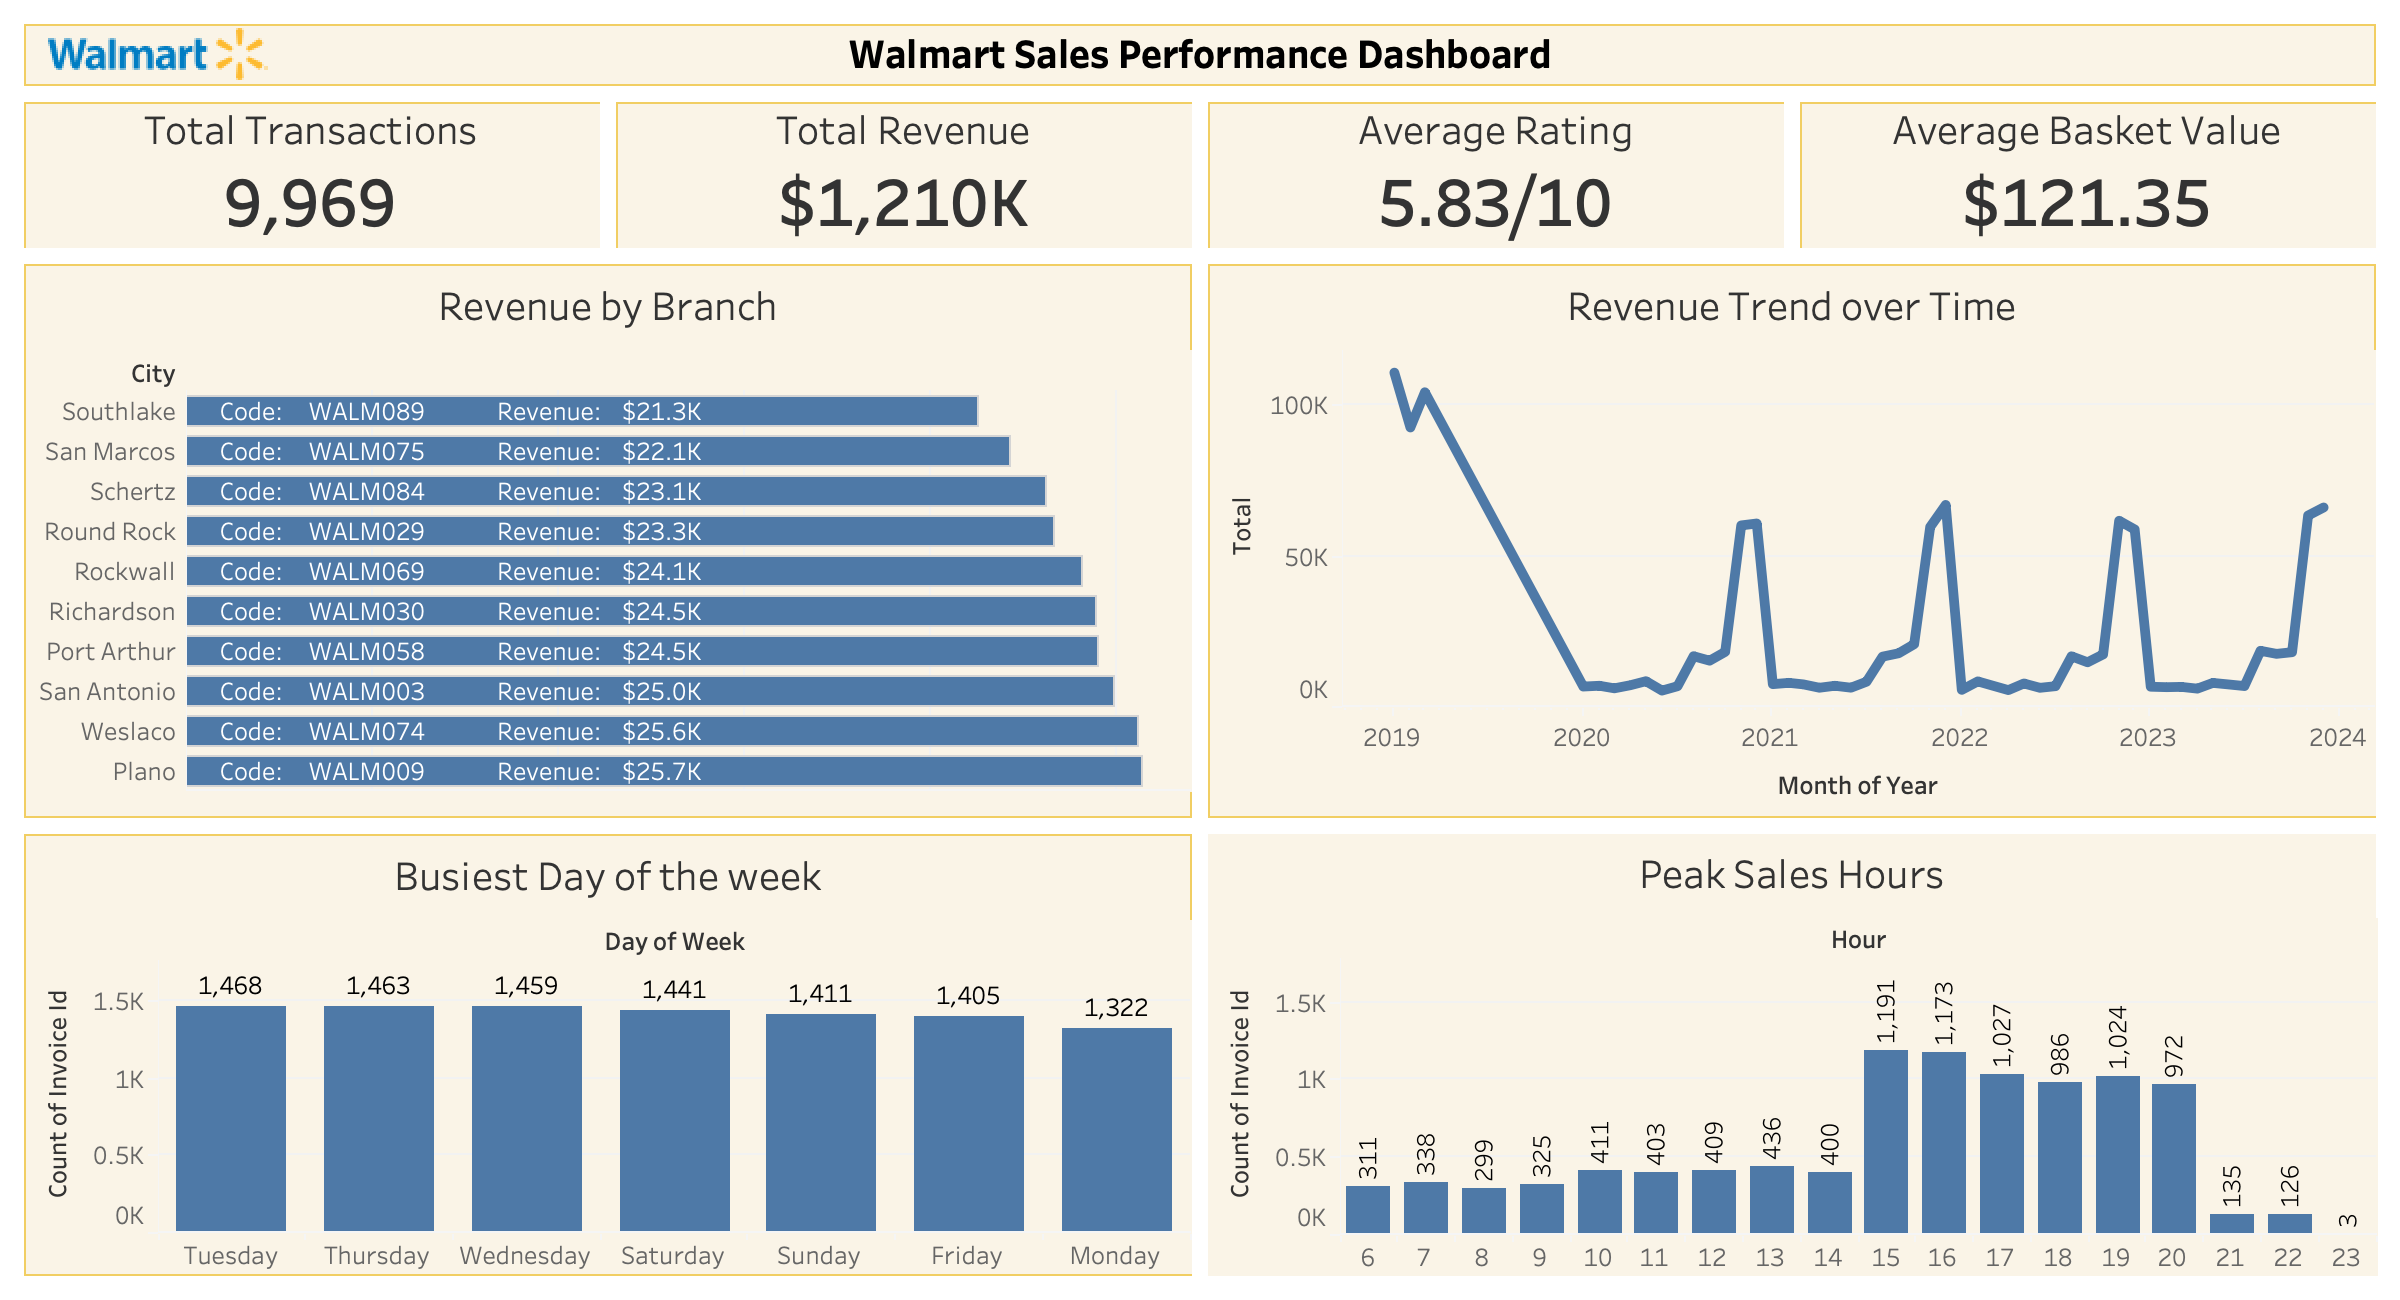

The page's visual inventory and layout, read from the dashboard file:
{"tool":"tableau","page":{"name":"Walmart Sales Performance Dashboard","canvas":[1200,650],"ordinal":0},"visuals":[{"type":"text","box":[8,8,1184,39]},{"type":"worksheet","title":"KPI-Total Transactions","mark":"Automatic","box":[8,47,296,81]},{"type":"worksheet","title":"KPI-Total Revenue","mark":"Automatic","box":[304,47,296,81]},{"type":"worksheet","title":"KPI-Average Rating","mark":"Automatic","box":[600,47,296,81]},{"type":"worksheet","title":"KPI-Average Basket Value","mark":"Automatic","box":[896,47,296,81]},{"type":"worksheet","title":"Revenue by Branch","mark":"Automatic","rows":["city"],"cols":["total"],"box":[8,128,592,285]},{"type":"worksheet","title":"Revenue Trend over Time","mark":"Line","rows":["total"],"cols":["date"],"box":[600,128,592,285]},{"type":"worksheet","title":"Busiest Day of the week","mark":"Automatic","rows":["invoice_id"],"cols":["Calculation_2333060401868802"],"box":[8,413,592,229]},{"type":"worksheet","title":"Peak Sales Hours","mark":"Automatic","rows":["invoice_id"],"cols":["Calculation_2333060401938435"],"box":[600,413,592,229]}]}

Visuals, with their boxes in screenshot pixels (x1, y1, x2, y2), scaled from the page's 1200x650 canvas onto the 2400x1300 screenshot:
text: bbox=[16, 16, 2384, 94]
"KPI-Total Transactions" worksheet: bbox=[16, 94, 608, 256]
"KPI-Total Revenue" worksheet: bbox=[608, 94, 1200, 256]
"KPI-Average Rating" worksheet: bbox=[1200, 94, 1792, 256]
"KPI-Average Basket Value" worksheet: bbox=[1792, 94, 2384, 256]
"Revenue by Branch" worksheet: bbox=[16, 256, 1200, 826]
"Revenue Trend over Time" worksheet (Line marks): bbox=[1200, 256, 2384, 826]
"Busiest Day of the week" worksheet: bbox=[16, 826, 1200, 1284]
"Peak Sales Hours" worksheet: bbox=[1200, 826, 2384, 1284]
